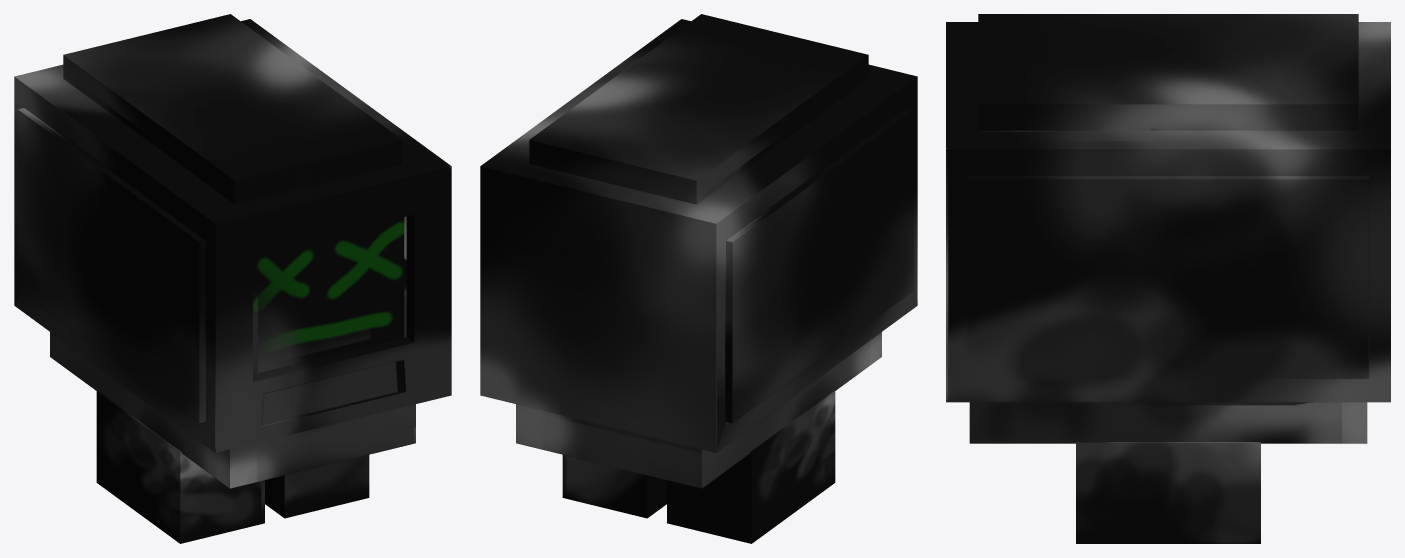
File: BonkyDead.fbx
3 views of the same model, side by side, from view 1: azimuth 30°, elevation 25°; view 2: azimuth 150°, elevation 25°; view 3: azimuth 270°, elevation 25° (orthographic). The views are drawn at different scales.
Parts seen in each view (by area): view 1: Main Body, Leg.002, Leg.001; view 2: Main Body, Leg.002, Leg.001; view 3: Main Body, Leg.001.
Part boxes in pixels (x1=…): Main Body: x1=14, y1=14, x2=451, y2=488; Leg.002: x1=96, y1=391, x2=264, y2=543; Leg.001: x1=265, y1=455, x2=369, y2=518; Main Body: x1=480, y1=14, x2=917, y2=488; Leg.002: x1=667, y1=391, x2=835, y2=543; Leg.001: x1=562, y1=455, x2=666, y2=518; Main Body: x1=946, y1=14, x2=1390, y2=443; Leg.001: x1=1076, y1=442, x2=1260, y2=543.
Size of the model in its own units: 78.94 by 119 by 111.
